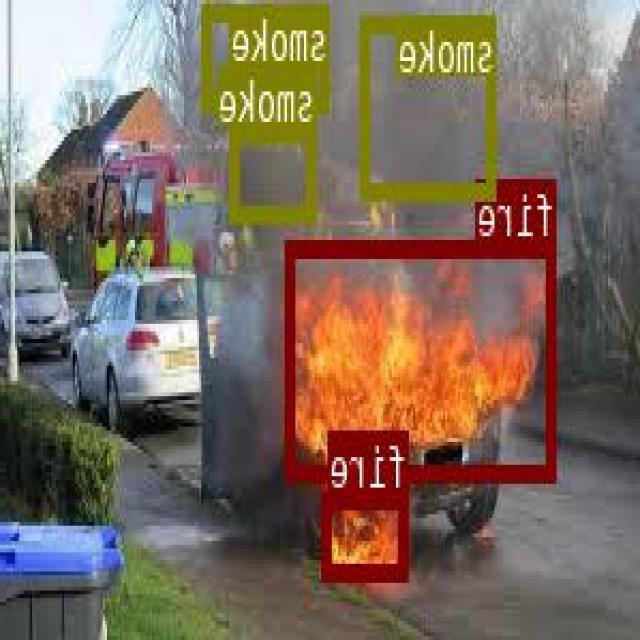fire: (288, 238, 557, 478), (325, 489, 410, 577)
smoke: (362, 12, 498, 197), (204, 2, 330, 110), (233, 125, 318, 219)
